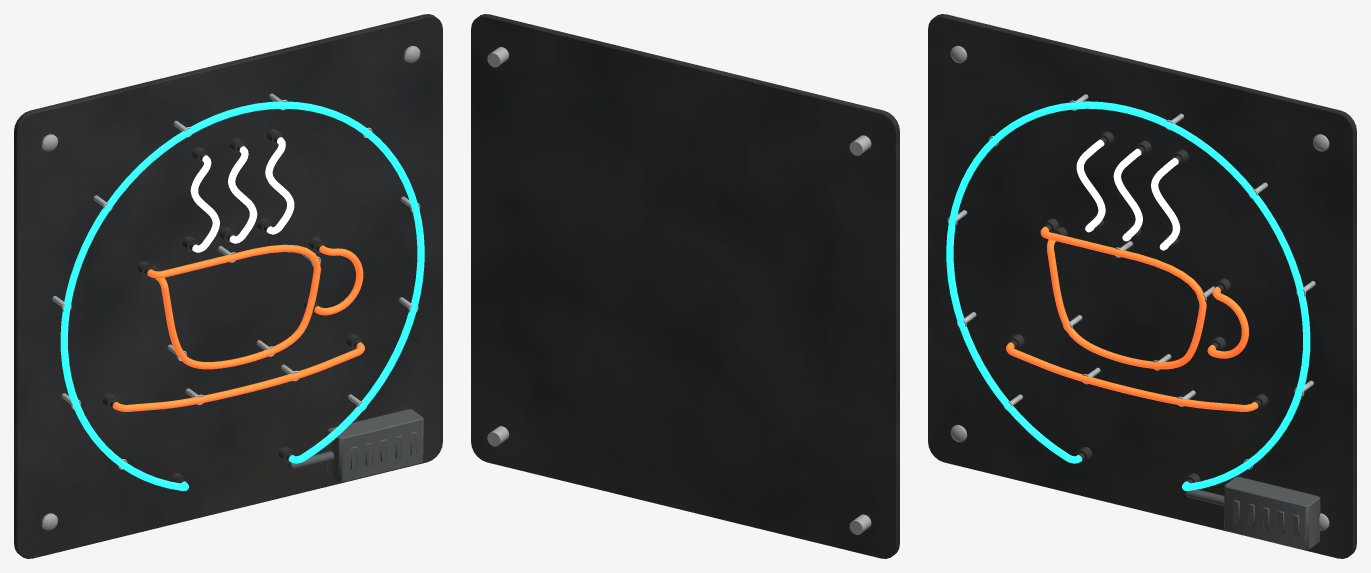
File: neon.glb
3 views of the same model, side by side, from view 1: azimuth 30°, elevation 25°; view 2: azimuth 150°, elevation 25°; view 3: azimuth 330°, elevation 25° (orthographic).
Visible parts, largest first — view 1: neon-sign_body, neon-sign_neon_ring, neon-sign_neon_warm, neon-sign_neon_dampf; view 2: neon-sign_body; view 3: neon-sign_body, neon-sign_neon_ring, neon-sign_neon_warm, neon-sign_neon_dampf.
Part boxes in pixels (x1,y1,x2,y2): neon-sign_body: (14,14,442,558); neon-sign_neon_ring: (60,101,424,490); neon-sign_neon_warm: (112,244,364,411); neon-sign_neon_dampf: (190,137,294,252); neon-sign_body: (471,14,899,558); neon-sign_body: (928,14,1356,558); neon-sign_neon_ring: (946,101,1310,490); neon-sign_neon_warm: (1006,226,1258,411); neon-sign_neon_dampf: (1076,139,1180,250).
Bounding box in the file's own units: 0.8 × 0.8 × 0.087.
Materials: 4 (1 with a texture image).
